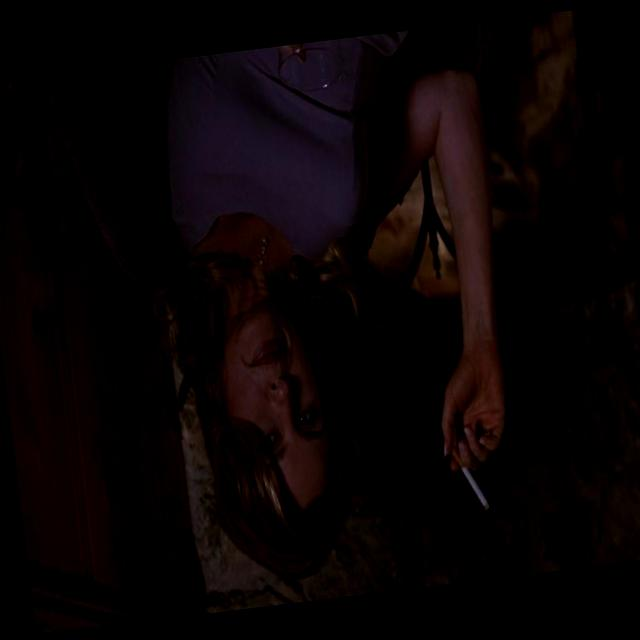cigarette: (450, 438, 490, 534)
